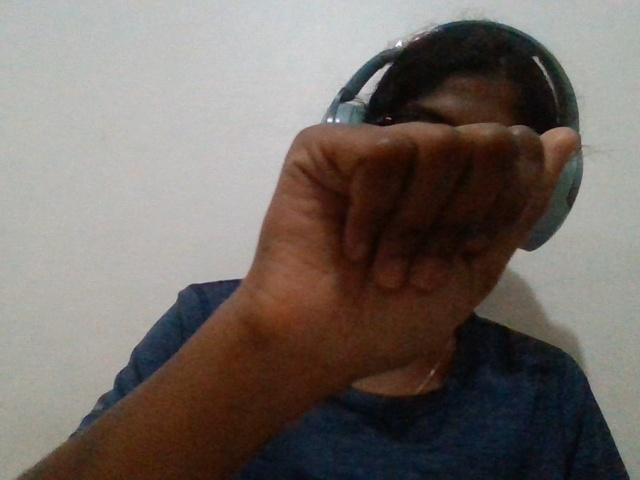A: (158, 97, 590, 420)
